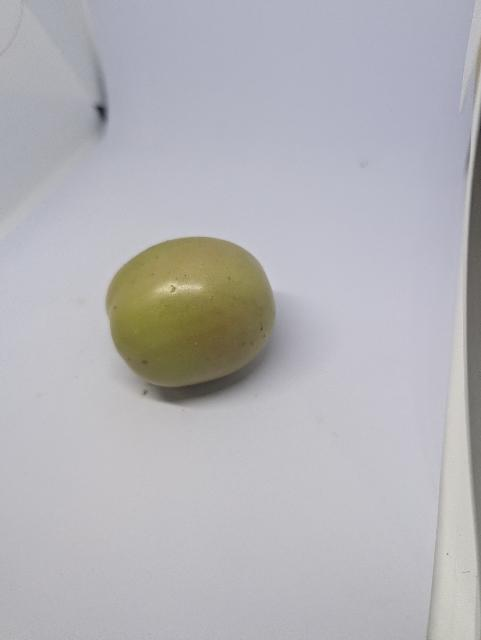green: (103, 235, 280, 388)
